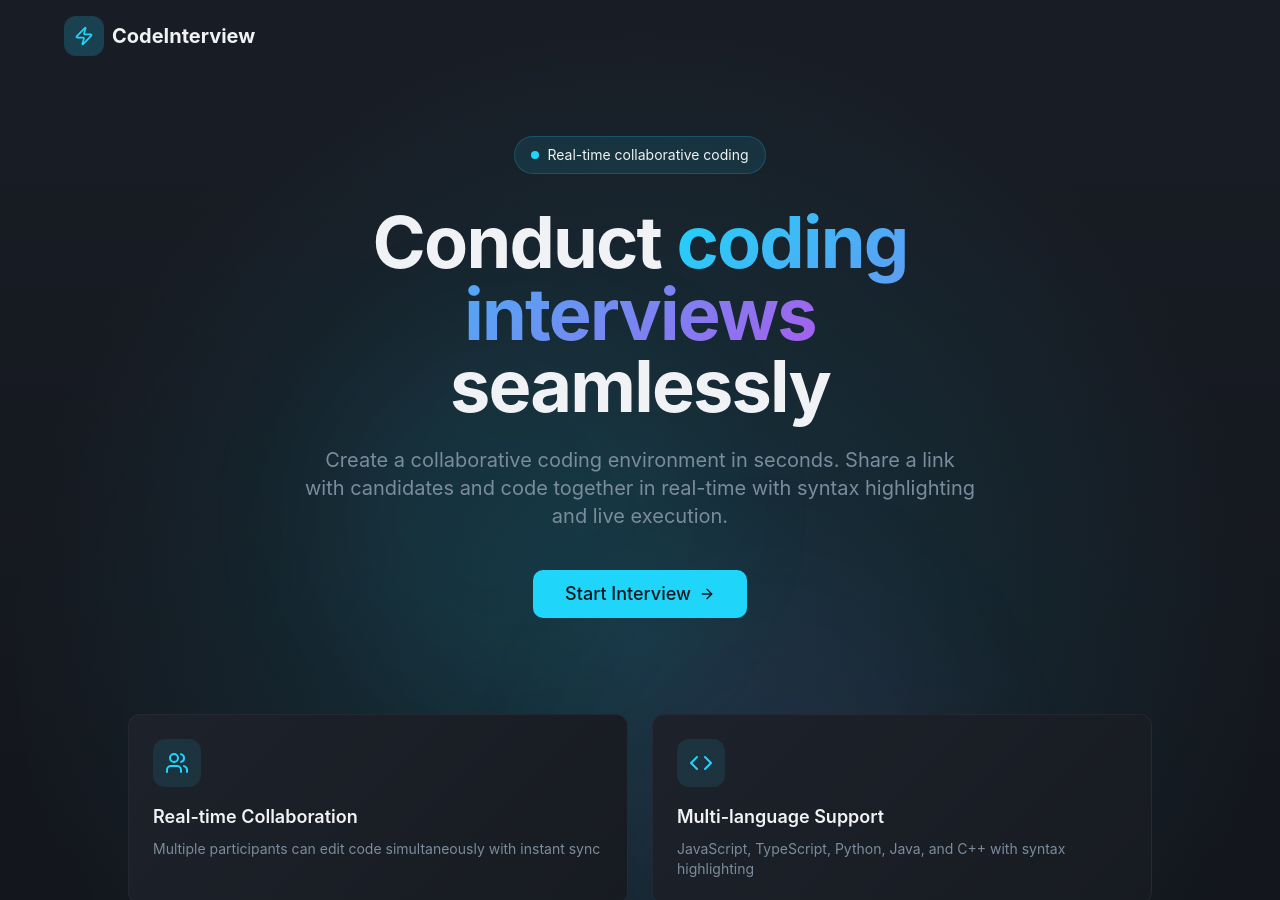
Test case: Index Page › should show loading state while creating session
Click the button "Start Interview".
click(640, 594)  # box [533,570,747,618]
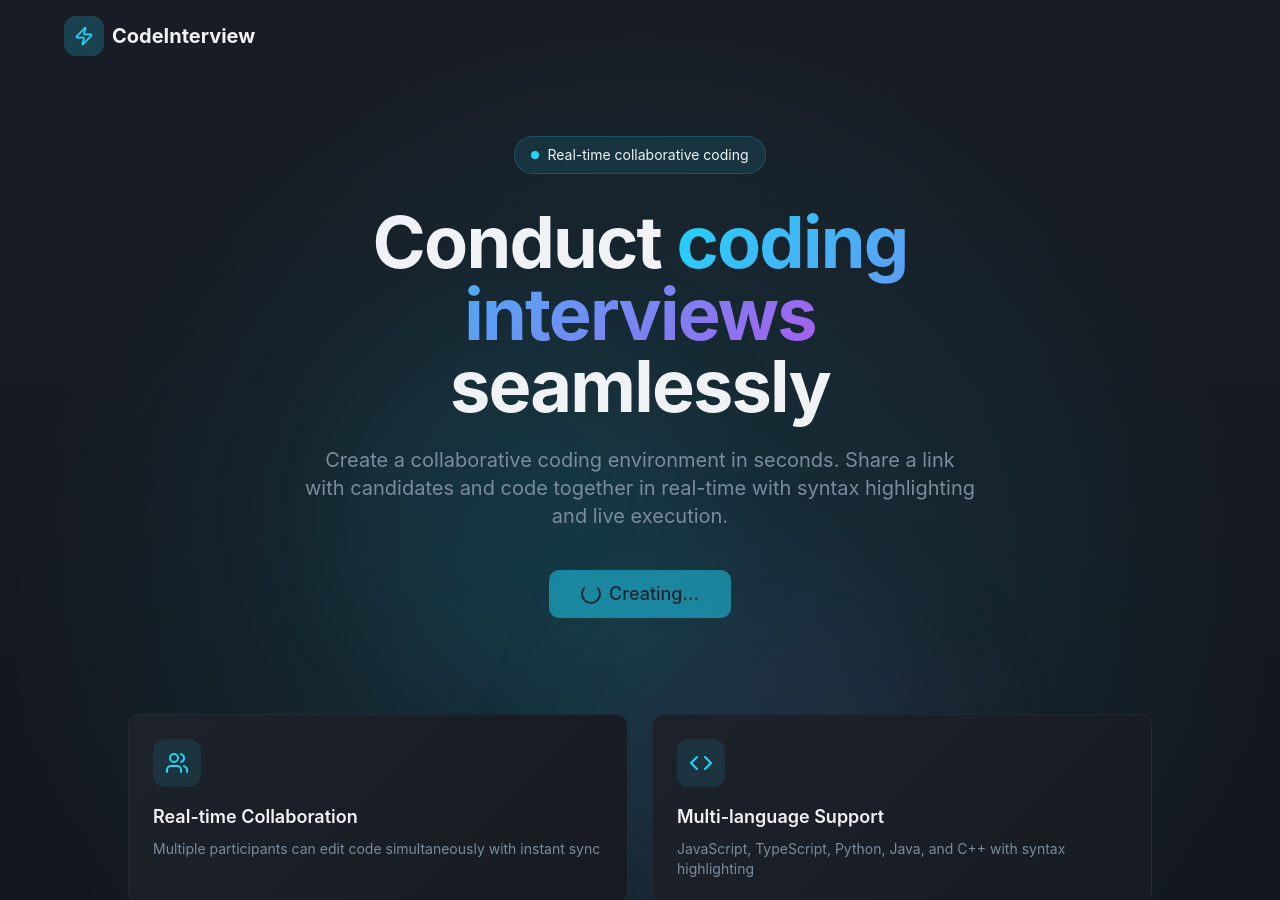
Now the button "Creating..." is shown, box [549,570,731,618]
